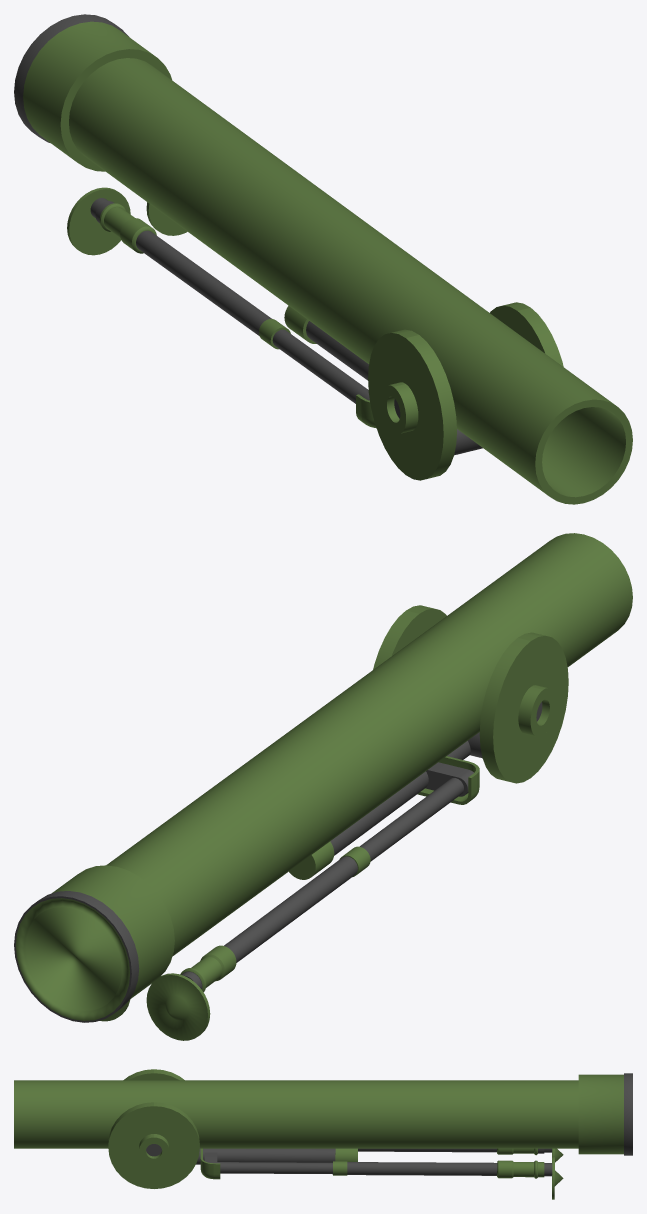
The model's file is Mortar.glb.
3 views of the same model, one above another, from view 1: azimuth 30°, elevation 25°; view 2: azimuth 150°, elevation 25°; view 3: azimuth 270°, elevation 25° (orthographic). The views are drawn at different scales.
Visible parts, largest first — view 1: Cylinder.003; view 2: Cylinder.003; view 3: Cylinder.003.
Boxes of the visible parts, x1,y1,x2,y2 form: Cylinder.003: [14, 14, 632, 504]; Cylinder.003: [14, 533, 632, 1040]; Cylinder.003: [14, 1069, 632, 1199].
Size of the model in its own units: 0.6156 by 0.7073 by 3.64.
